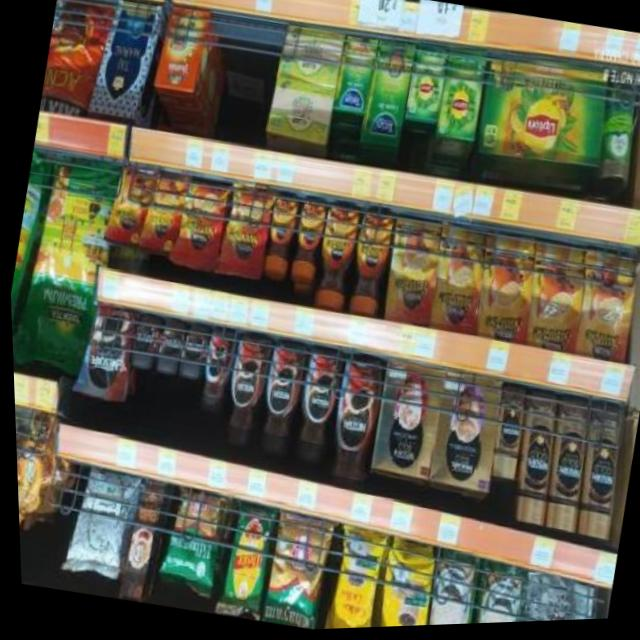Coffee: (318, 355, 387, 495), (517, 241, 590, 360), (566, 402, 627, 542), (566, 252, 639, 368), (535, 398, 594, 536), (469, 234, 539, 349), (503, 390, 560, 528), (422, 224, 490, 339), (284, 345, 346, 470), (376, 219, 443, 330), (212, 333, 272, 456), (249, 338, 308, 460), (341, 208, 397, 320), (306, 203, 362, 315), (76, 302, 133, 400), (170, 182, 228, 271), (216, 188, 271, 278), (482, 384, 527, 484), (190, 324, 235, 417), (259, 193, 300, 275), (286, 198, 326, 278), (148, 317, 184, 378), (174, 323, 209, 383), (124, 310, 159, 369)
